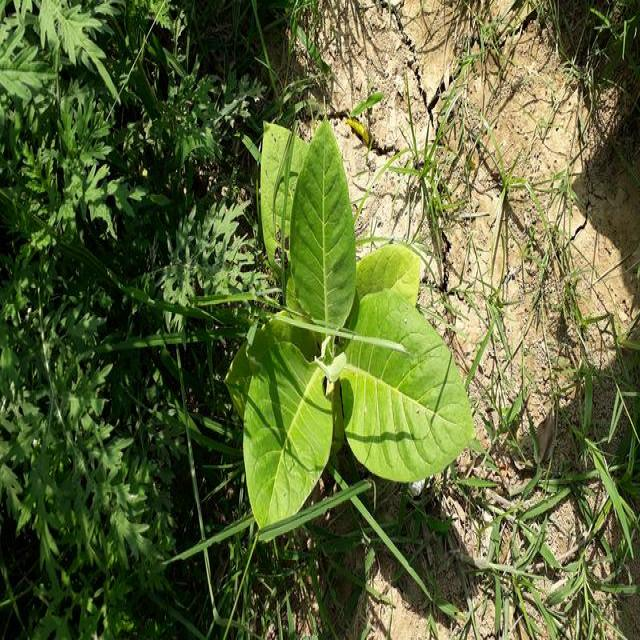crop: (246, 126, 472, 516)
